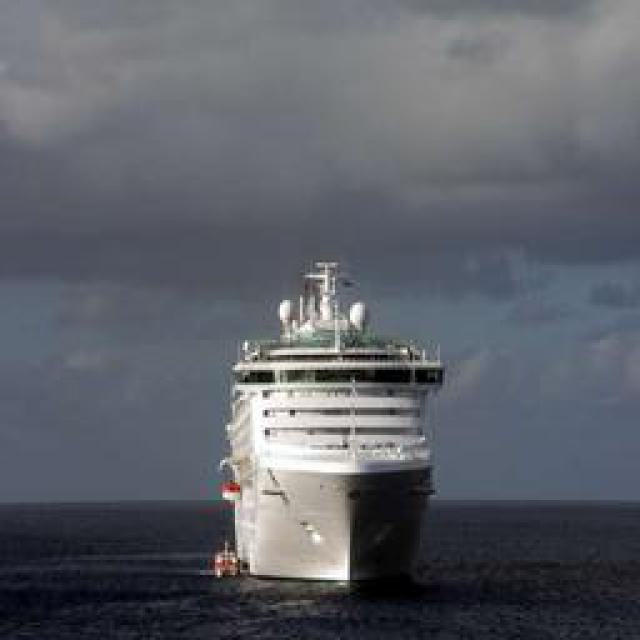Ship: (218, 251, 446, 581)
